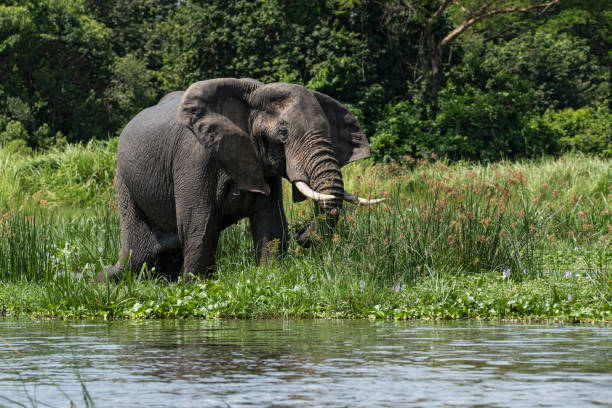africanelephant: (232, 70, 392, 216)
